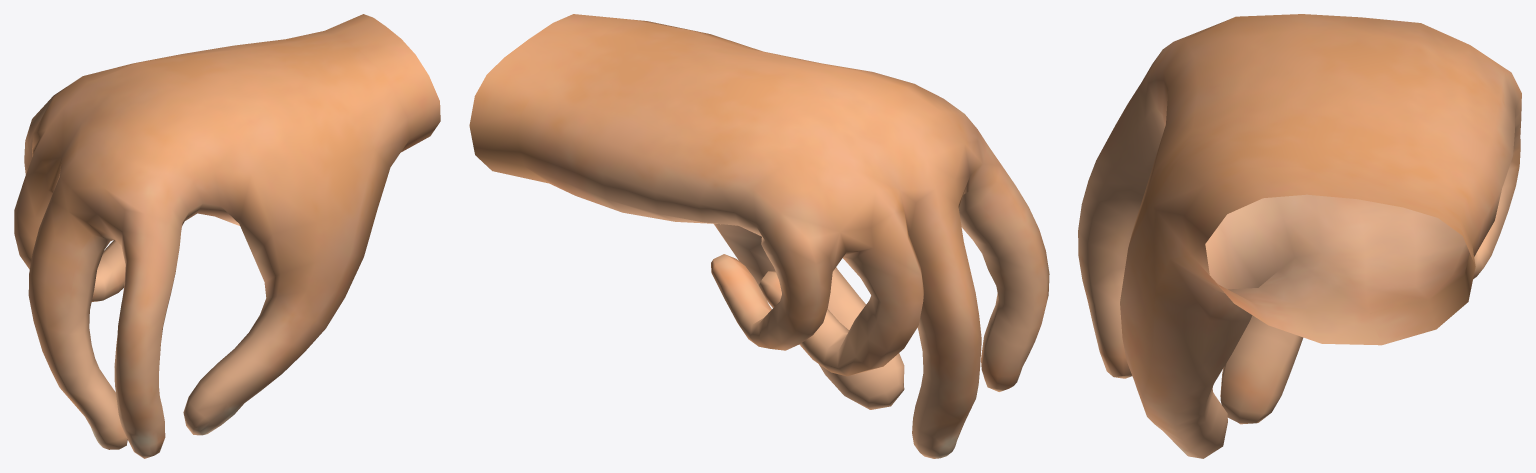
File: H_tripod.fbx
3 views of the same model, side by side, from view 1: azimuth 30°, elevation 25°; view 2: azimuth 150°, elevation 25°; view 3: azimuth 270°, elevation 25° (orthographic). The views are drawn at different scales.
Parts seen in each view (by area): view 1: H_tripod; view 2: H_tripod; view 3: H_tripod.
Part boxes in pixels (left/top/right/bottom): H_tripod: left=14, top=14, right=440, bottom=458; H_tripod: left=469, top=14, right=1049, bottom=458; H_tripod: left=1078, top=14, right=1521, bottom=458.
Bounding box in the file's own units: 13.9 × 11.37 × 10.27.
Materials: 1 (1 with a texture image).
